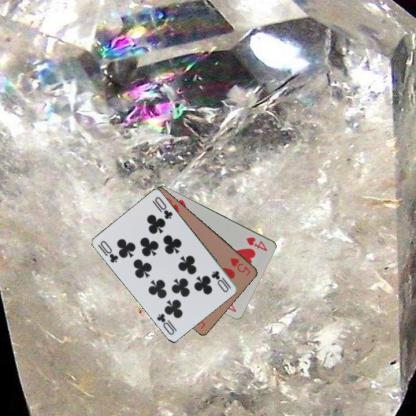10c: (209, 268, 232, 294), (98, 238, 120, 264)
4h: (244, 234, 268, 252)
5h: (228, 255, 252, 277)
